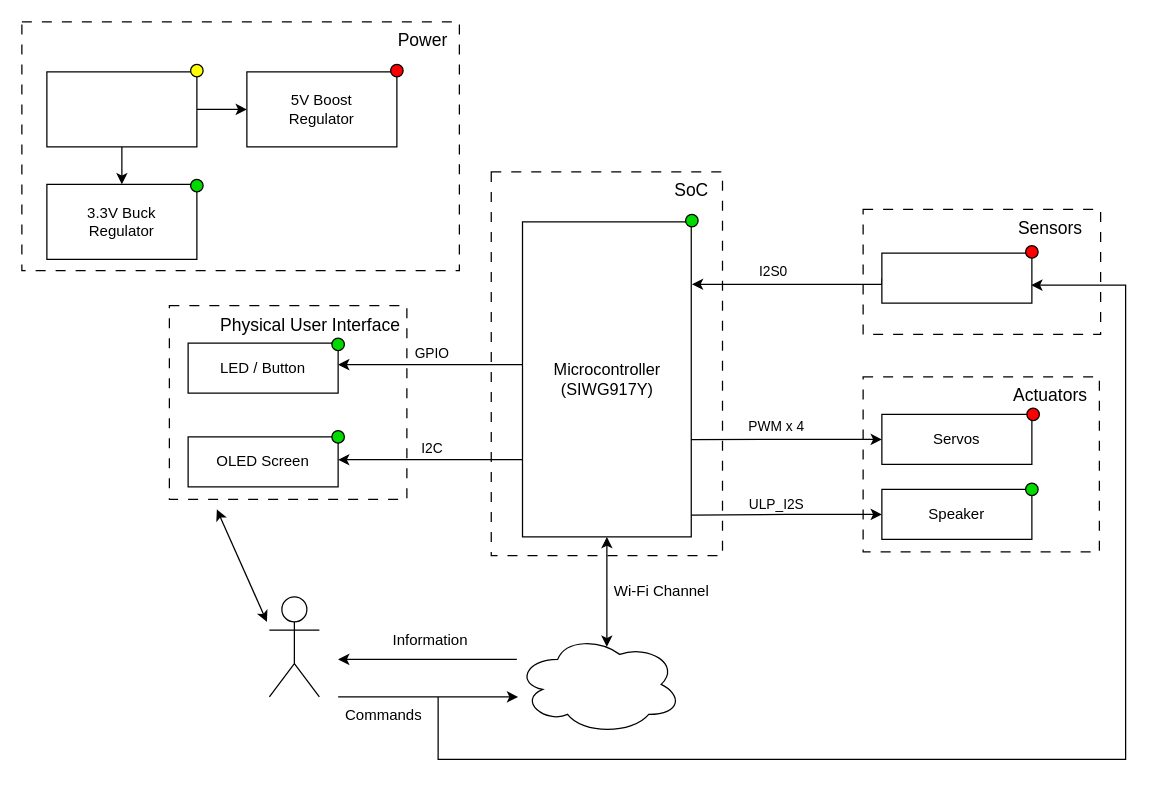
Image size: 1158x791. Some labels were removed from this diagram. The centre of each missing label's shape, as x and y in pixels:
Actor: point 293,646
Battery (1S Li-ion, 3.7V): point 121,109
Cloud Service: point 598,683
Microphone: point 956,277
